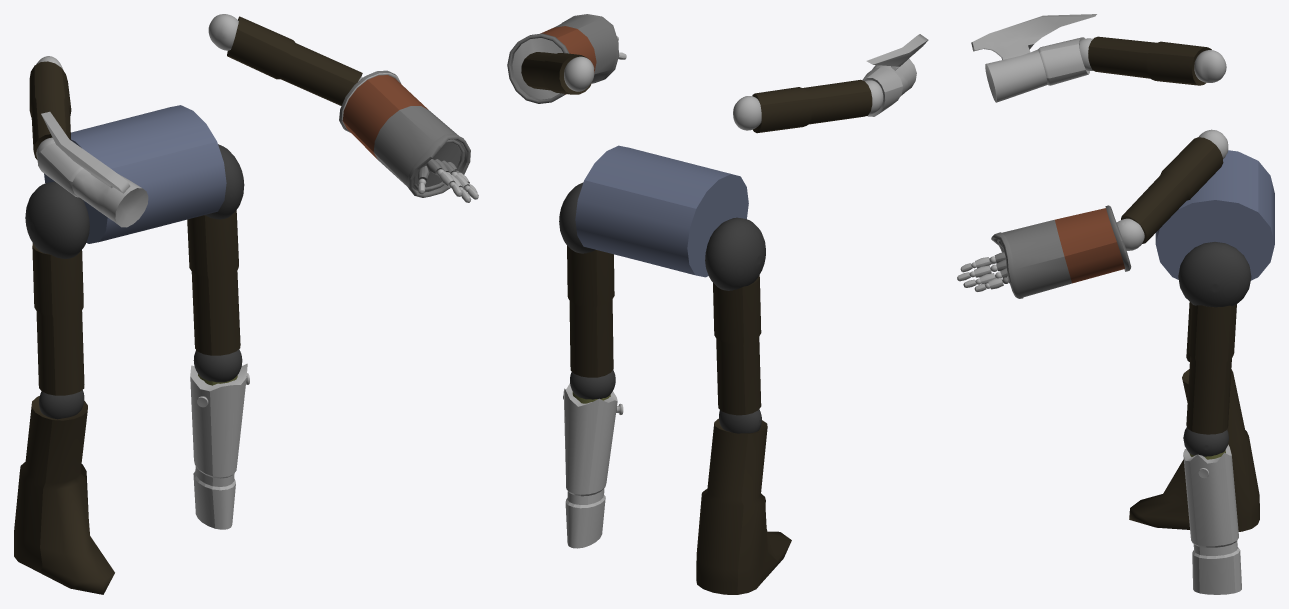
Rendered from R-BRT-UI.fbx.
3 views of the same model, side by side, from view 1: azimuth 30°, elevation 25°; view 2: azimuth 150°, elevation 25°; view 3: azimuth 270°, elevation 25° (orthographic). The views are drawn at different scales.
Parts seen in each view (by area): view 1: LeftArm1_Fringer_39; view 2: LeftArm1_Fringer_39; view 3: LeftArm1_Fringer_39.
Boxes of the visible parts, x1,y1,x2,y2 form: LeftArm1_Fringer_39: (14,14,478,594); LeftArm1_Fringer_39: (507,14,928,594); LeftArm1_Fringer_39: (957,14,1274,594).
Size of the model in its own units: 54.11 by 67.88 by 41.48.
